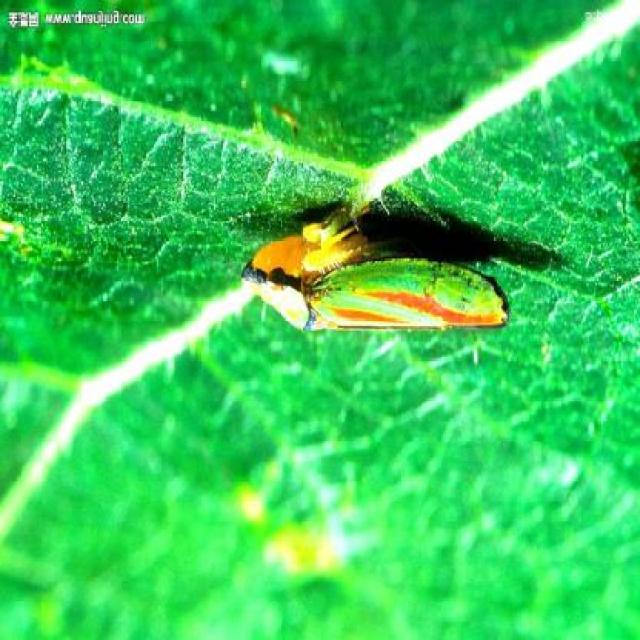green-leafhopper: (240, 209, 514, 343)
